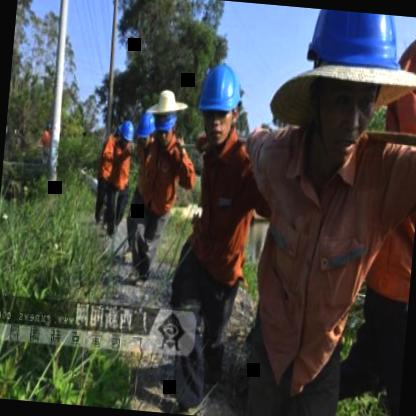helmet: (283, 7, 416, 173), (190, 55, 250, 147), (153, 85, 181, 129), (133, 107, 155, 154), (119, 114, 136, 150)
